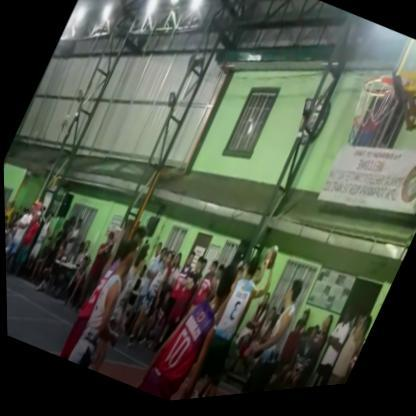basketball: (255, 245, 282, 282)
rim: (336, 64, 412, 166)
